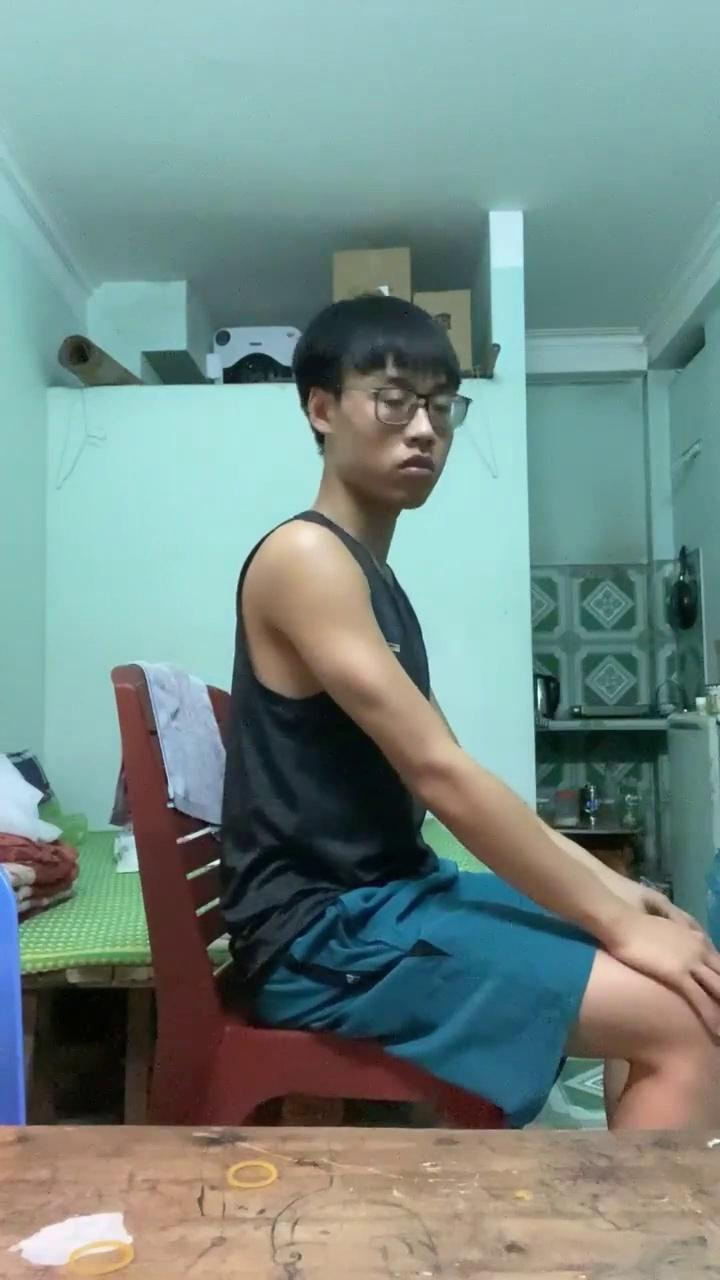GoodPosture: (221, 299, 719, 1132)
